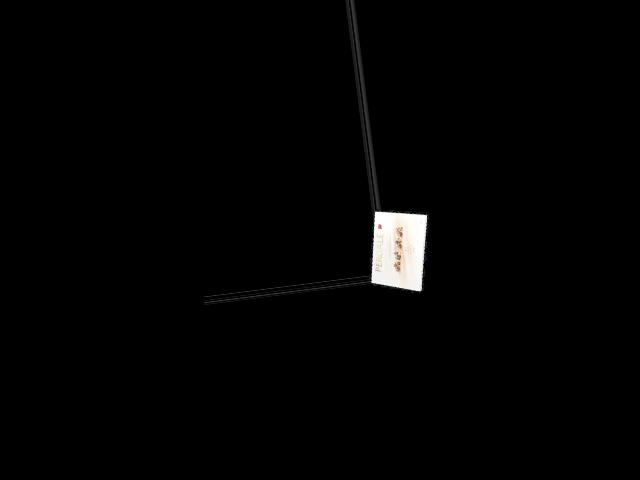chocolate: (364, 208, 438, 293)
